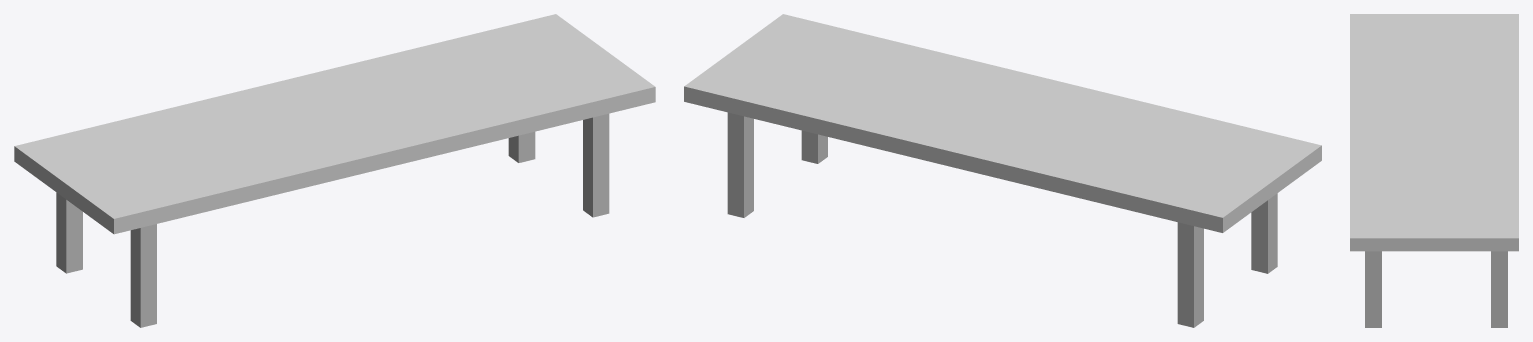
The model's file is prop_office_desk.fbx.
3 renders of one model, left to right at view 1: azimuth 30°, elevation 25°; view 2: azimuth 150°, elevation 25°; view 3: azimuth 270°, elevation 25°, orthographic. The views are drawn at different scales.
Parts seen in each view (by area): view 1: pCube7; view 2: pCube7; view 3: pCube7.
Boxes of the visible parts, bbox=[...] form: pCube7: bbox=[14, 14, 655, 327]; pCube7: bbox=[684, 14, 1321, 327]; pCube7: bbox=[1350, 14, 1518, 327].
Size of the model in its own units: 6.04 by 1.32 by 1.92.
